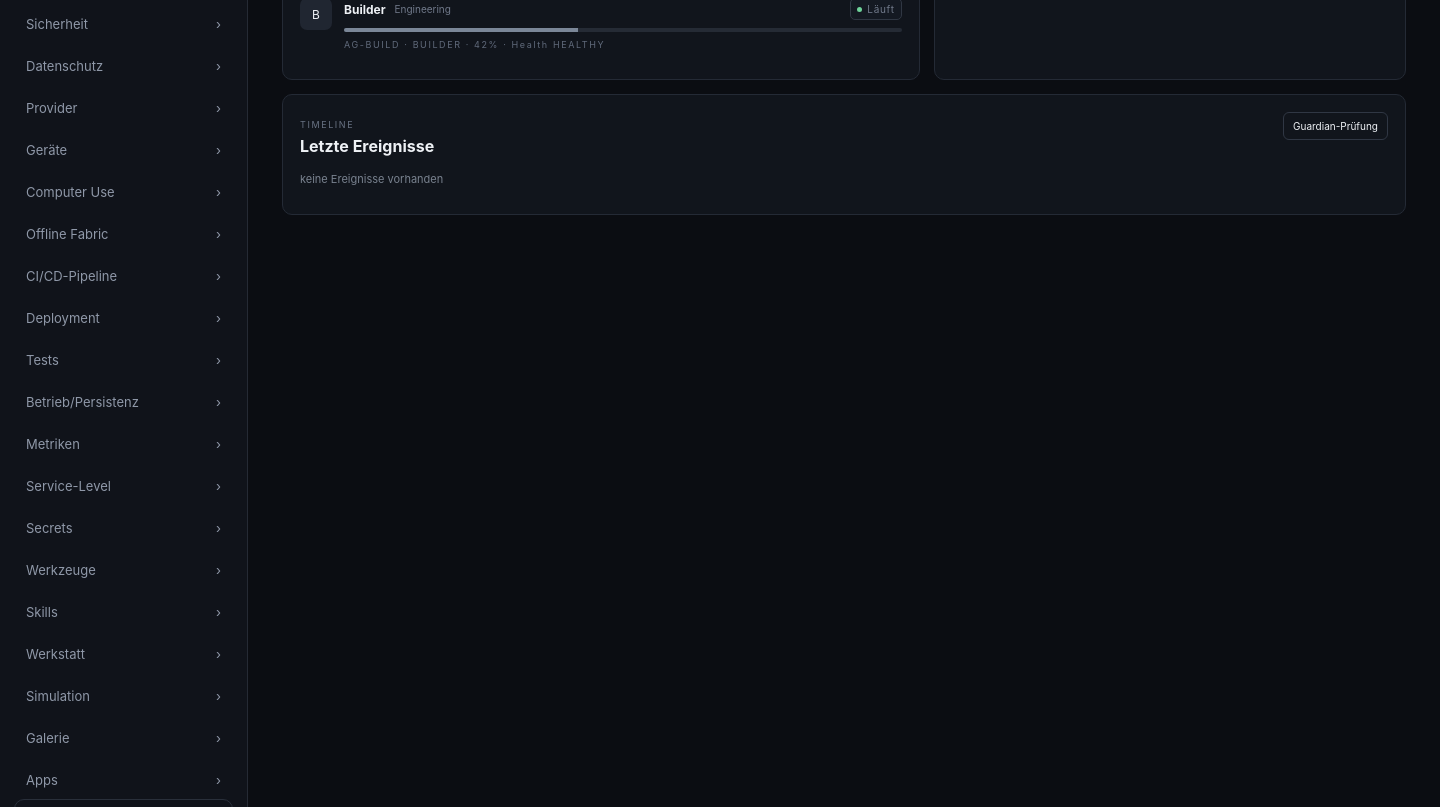
it: Control Center Oberfläche › zeigt die Backup-Automation mit Intervall, Aufbewahrung und Idempotenz-Hinweis
The width and height of the screenshot is (1440, 807).
(page scrolled)
Click the button "Betrieb/Persistenz ›" at [124, 402], box left=14, top=383, right=233, bottom=421
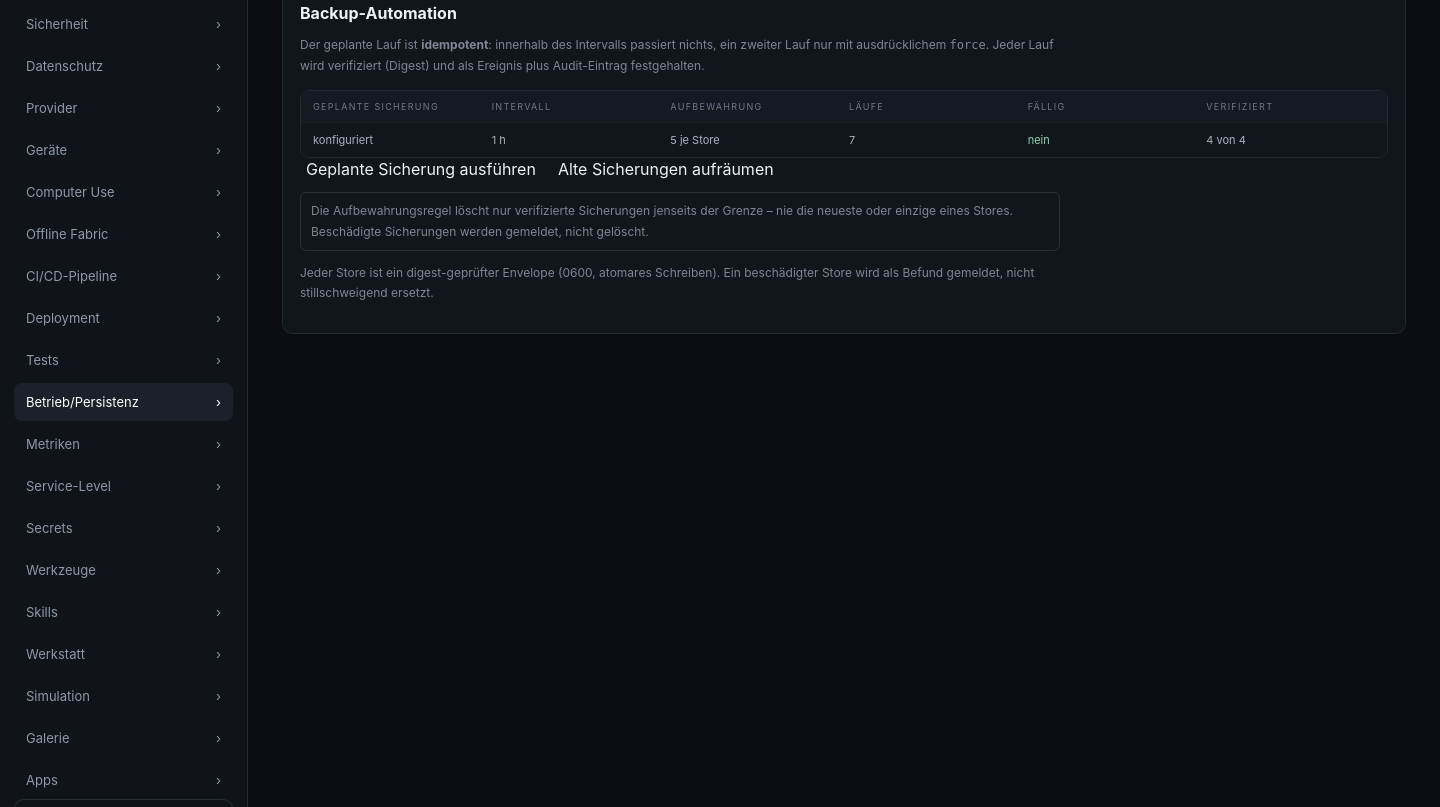
Expected: the text "Backup-Automation" is shown, left=300, top=3, right=457, bottom=23
Expected: the text "1 h" is shown, left=492, top=133, right=506, bottom=147
Expected: the text "5 je Store" is shown, left=670, top=133, right=720, bottom=147
